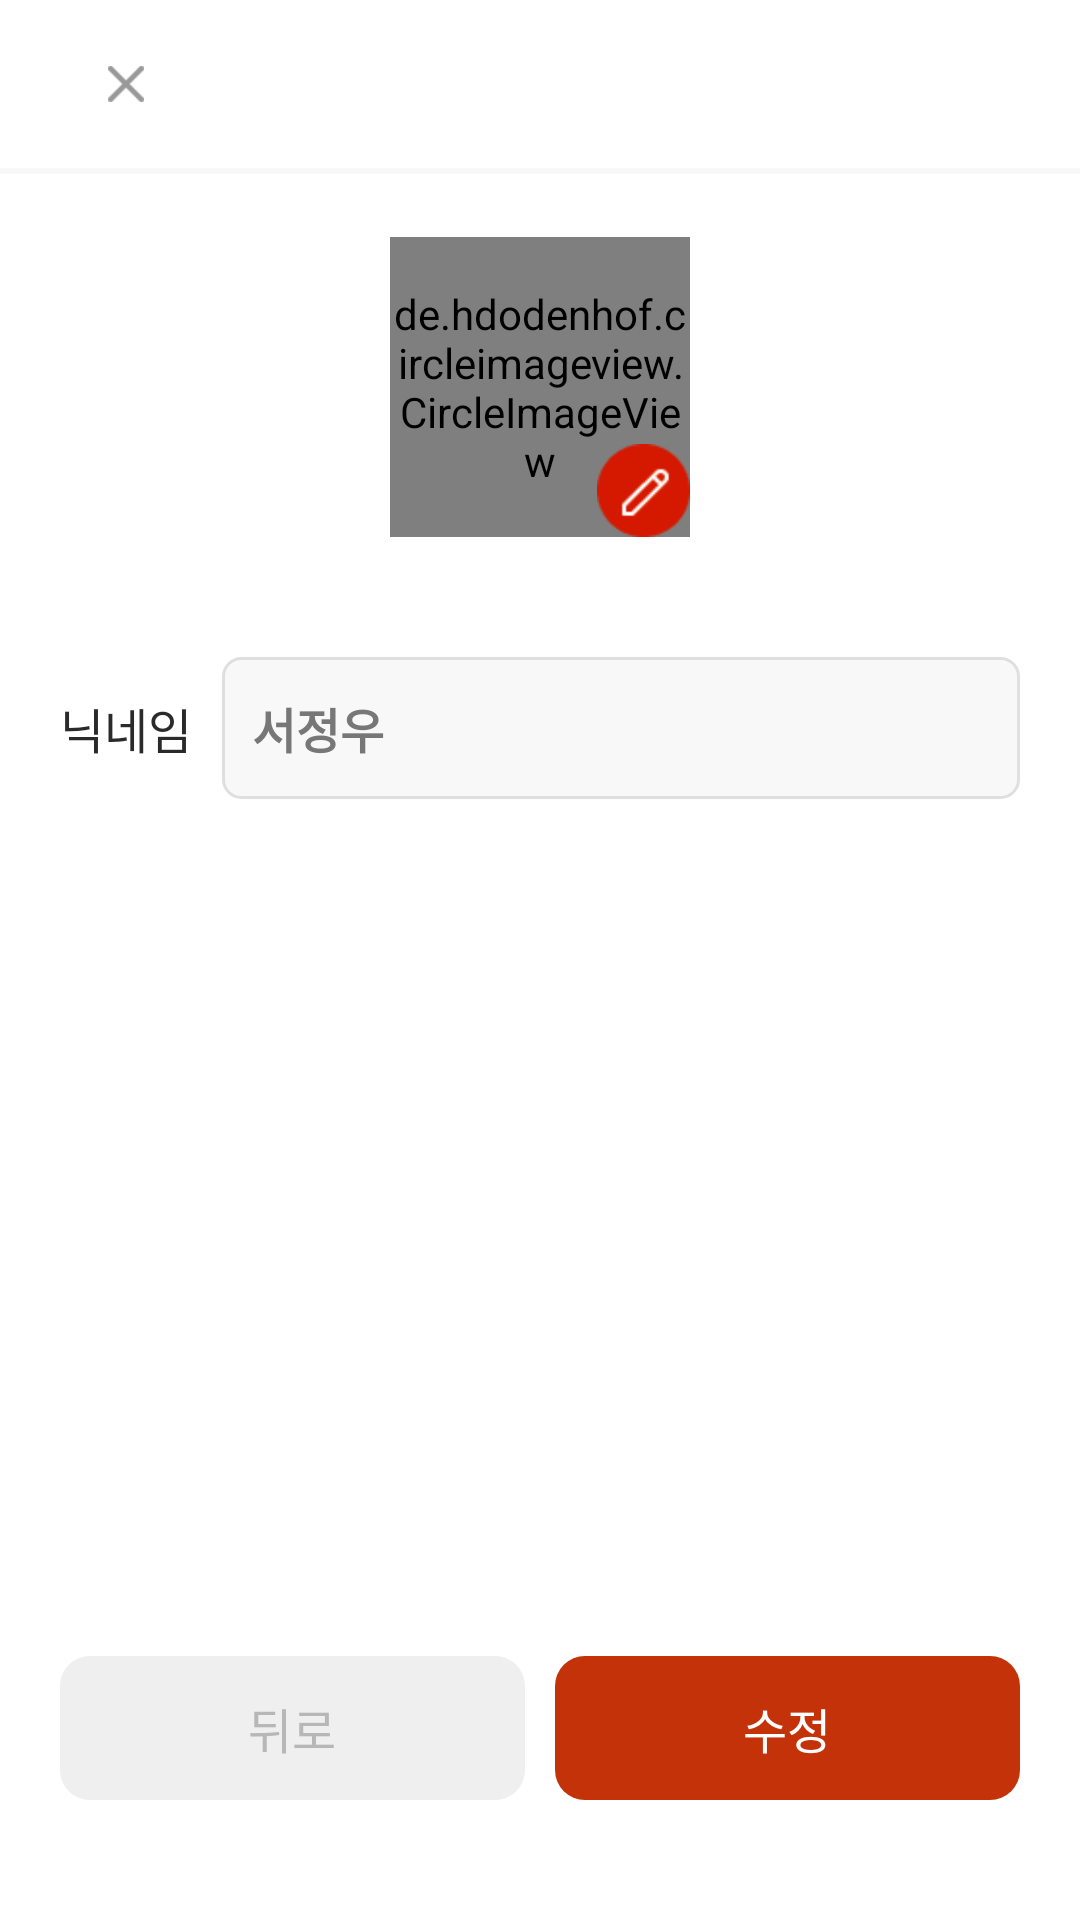

Point at icon controls on the screen. Image size 1080*1920, points as (x,y).
close: (126,84)
edit profile: (643,490)
